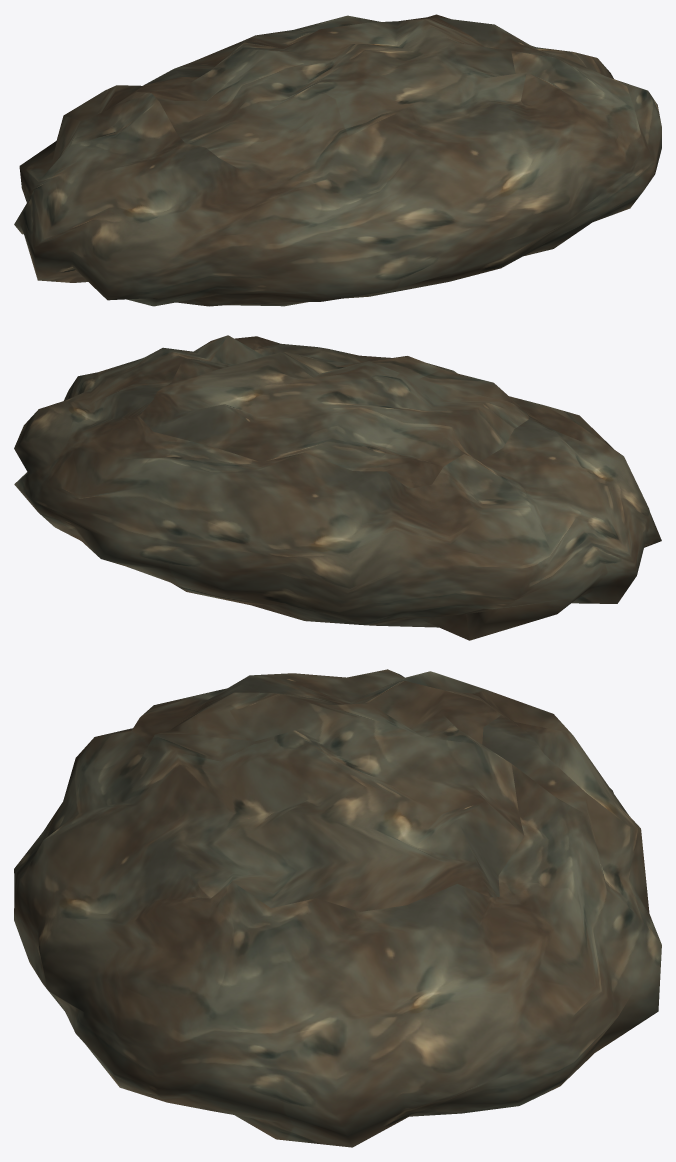
File: rock_04.FBX
The picture shows the model from 3 angles, top to bottom: view 1: azimuth 30°, elevation 25°; view 2: azimuth 150°, elevation 25°; view 3: azimuth 270°, elevation 25°; orthographic projection. The views are drawn at different scales.
Parts seen in each view (by area): view 1: Box003; view 2: Box003; view 3: Box003.
Part boxes in pixels (x1=…): Box003: x1=14, y1=14, x2=661, y2=306; Box003: x1=14, y1=335, x2=661, y2=640; Box003: x1=14, y1=669, x2=661, y2=1147.
Size of the model in its own units: 79.99 by 22.45 by 54.82.
